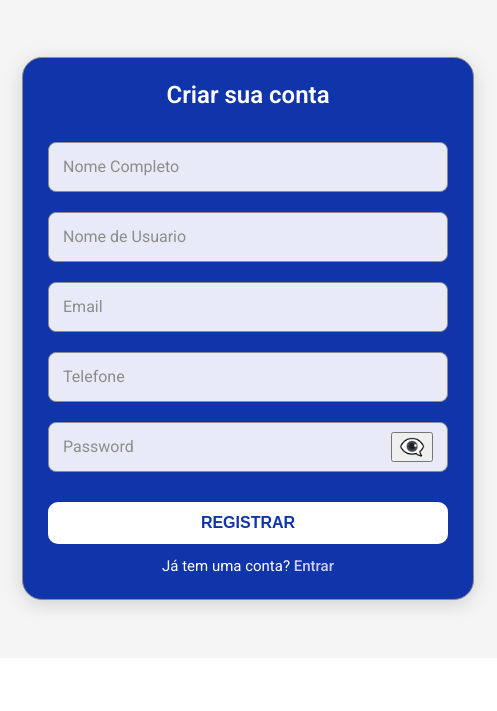
it: Register component › mostra mensagem de erro ao falhar o registro
The image size is (497, 711).
In the field labelled "Nome Completo": (248, 166) [48, 142, 448, 192], type "Andre"
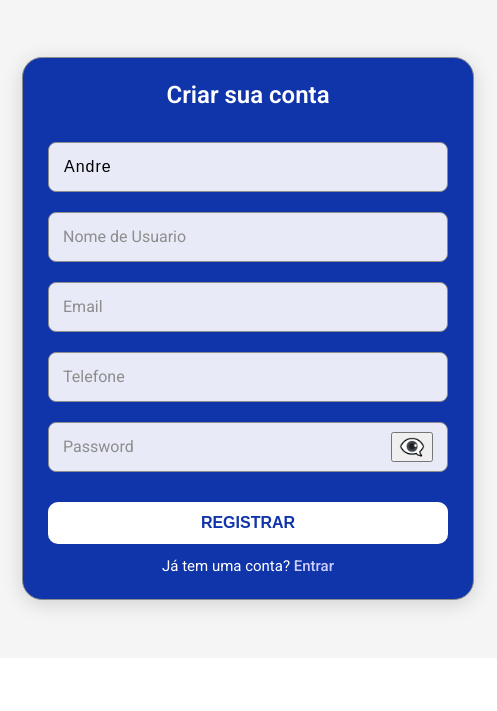
In the field labelled "Nome de Usuario": (248, 236) [48, 212, 448, 262], type "andre"
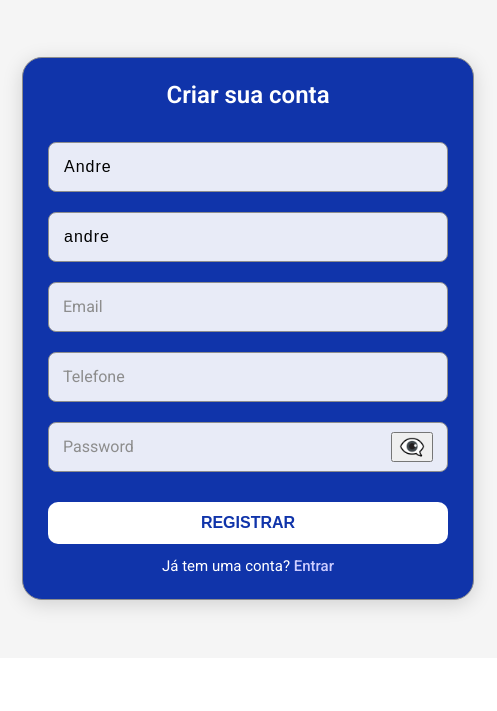
In the field labelled "Email": (248, 306) [48, 282, 448, 332], type "a@a.com"
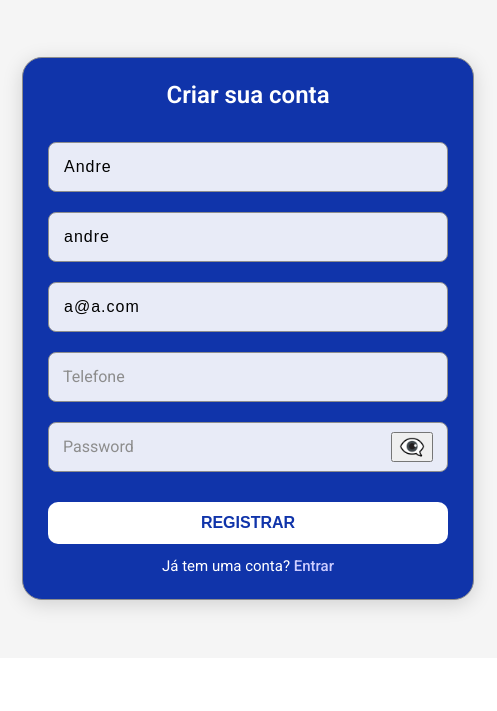
In the field labelled "Telefone": (248, 376) [48, 352, 448, 402], type "123"
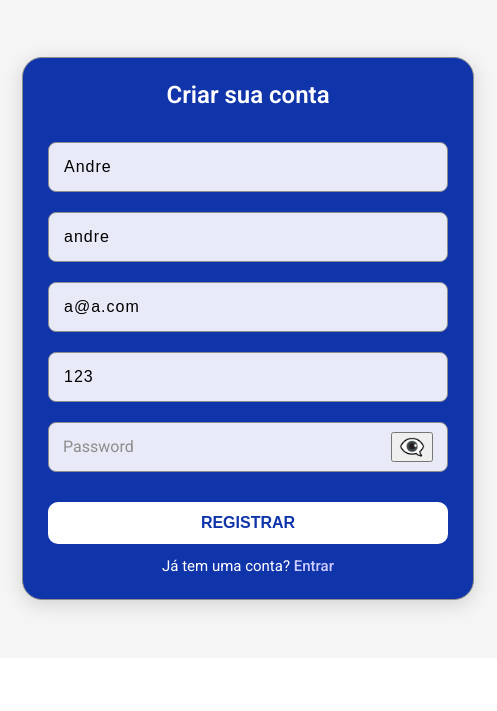
In the password field labelled "Password": (248, 446) [48, 422, 448, 472], type "123"
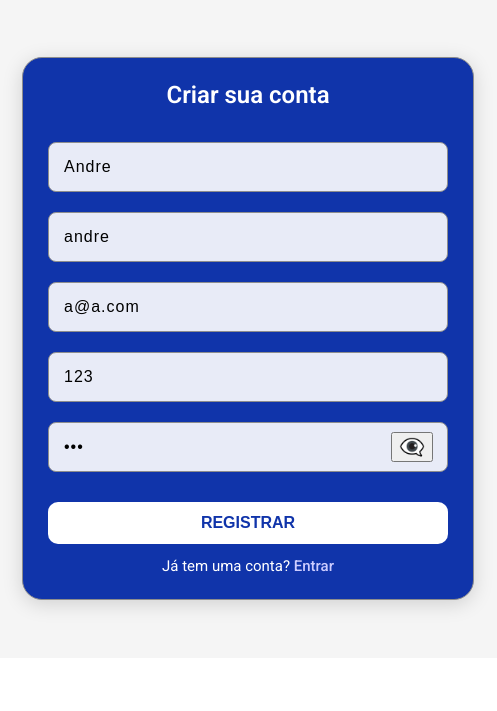
Click the button "Registrar": click(248, 522) [48, 502, 448, 544]
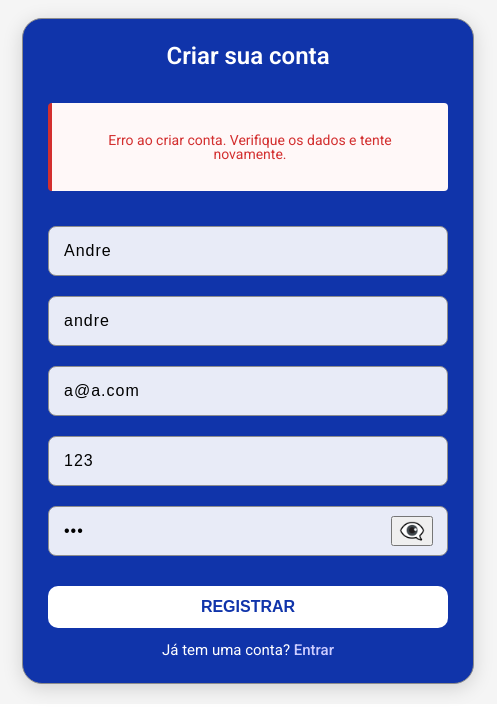
Result: the message shows "Erro ao criar conta" at [108, 132, 392, 162]
